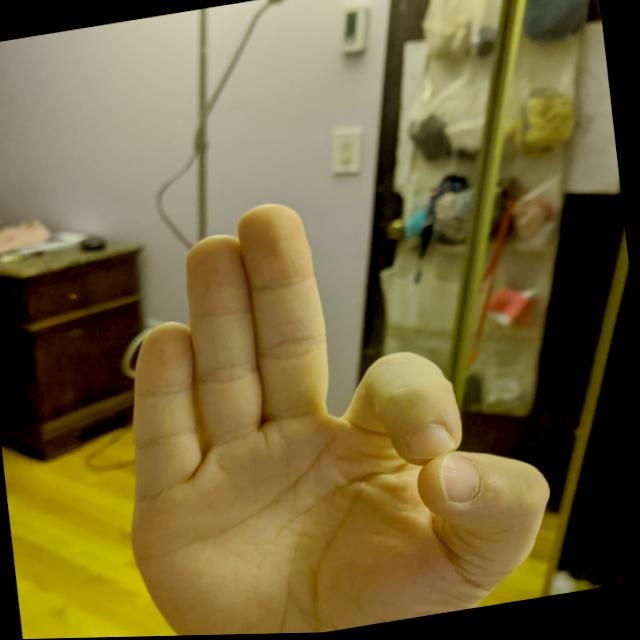F: (79, 156, 584, 637)
